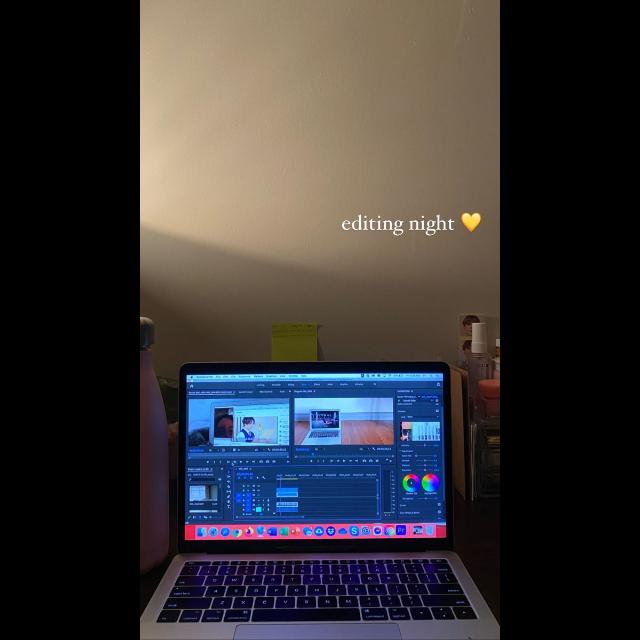laptop: (180, 356, 500, 640)
